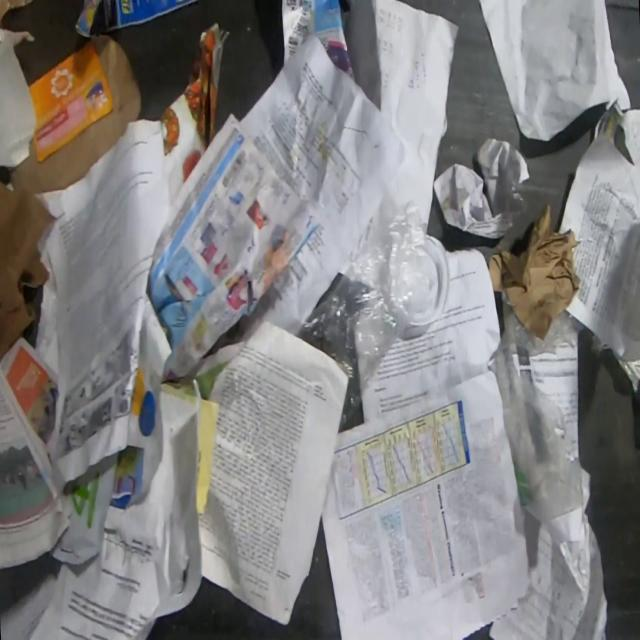cardboard: (9, 32, 142, 195), (0, 178, 57, 362)
rigid_plastic: (408, 233, 450, 326)
soft_plastic: (296, 196, 437, 433), (491, 292, 587, 525)
